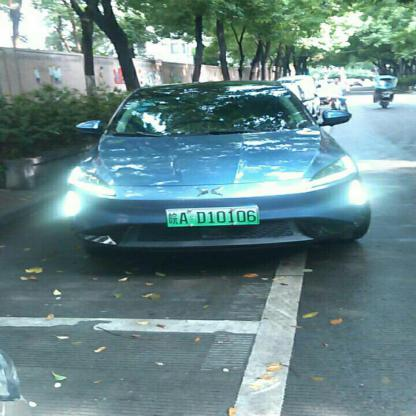lp: (165, 206, 258, 225)
